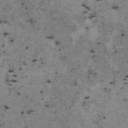oxide scale of temperature system: (0, 6, 61, 115), (89, 34, 126, 54), (82, 2, 118, 19), (110, 74, 128, 102), (84, 96, 90, 100), (73, 82, 78, 86), (102, 115, 106, 120)
